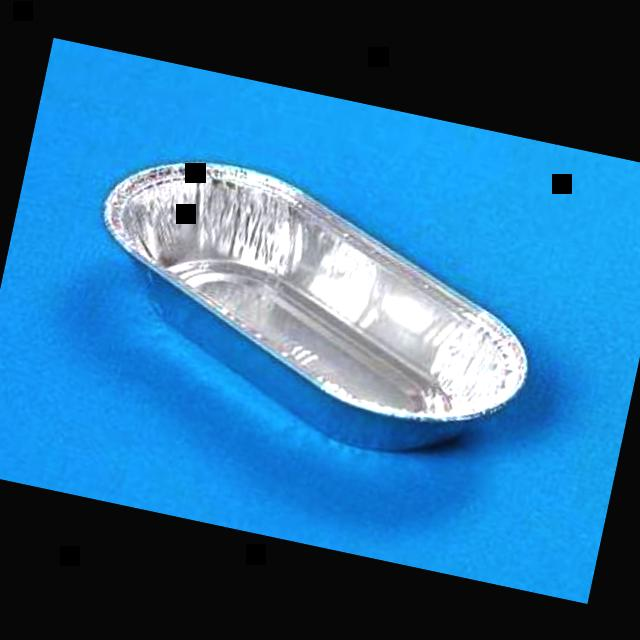plastic_box: (66, 138, 556, 476)
